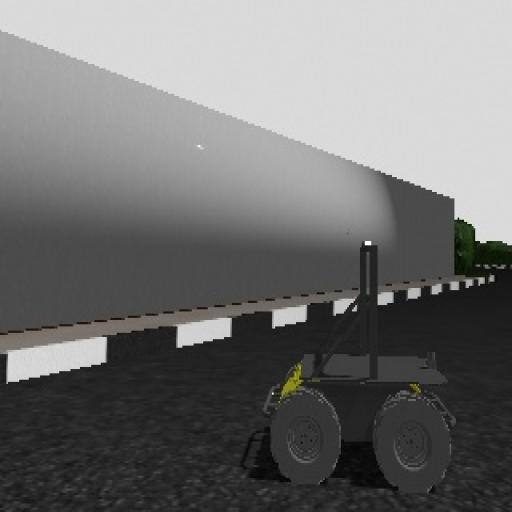huskya200: (252, 234, 462, 492)
